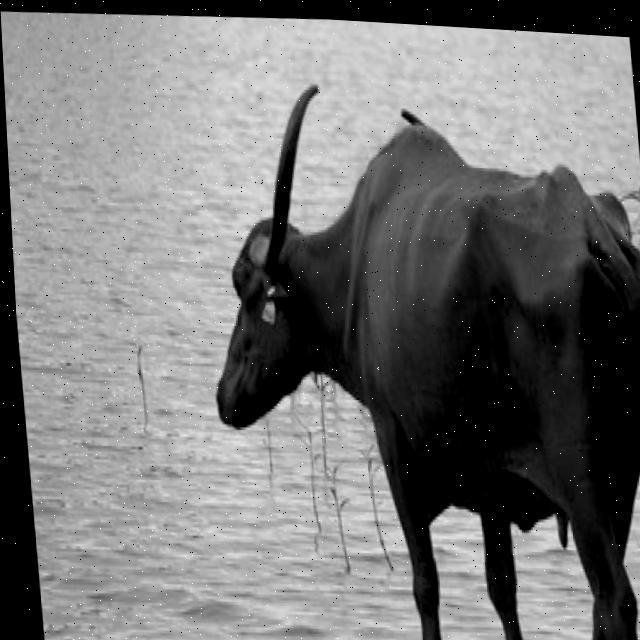Buffalo: (182, 57, 640, 640)
